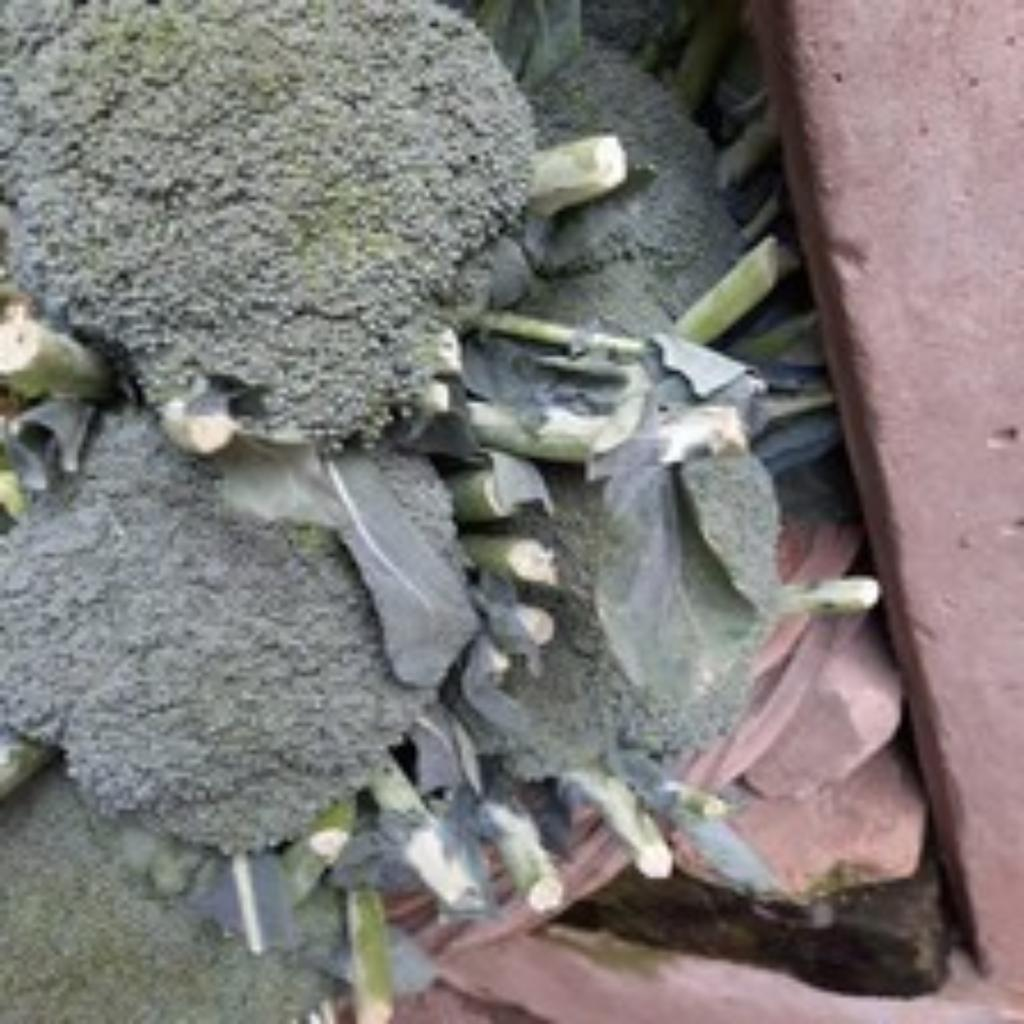Broccoli: (0, 412, 430, 853), (0, 412, 428, 853), (0, 764, 328, 1024), (0, 764, 328, 1024), (518, 40, 742, 337), (522, 40, 742, 335)
